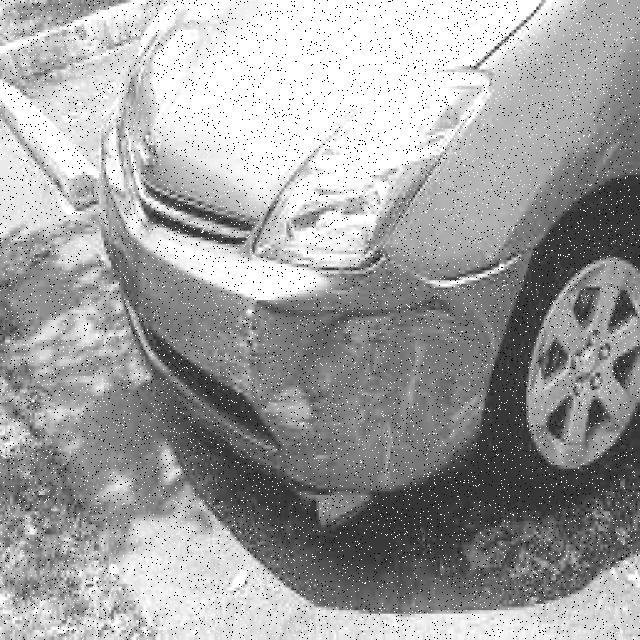car damage: (213, 271, 509, 483)
